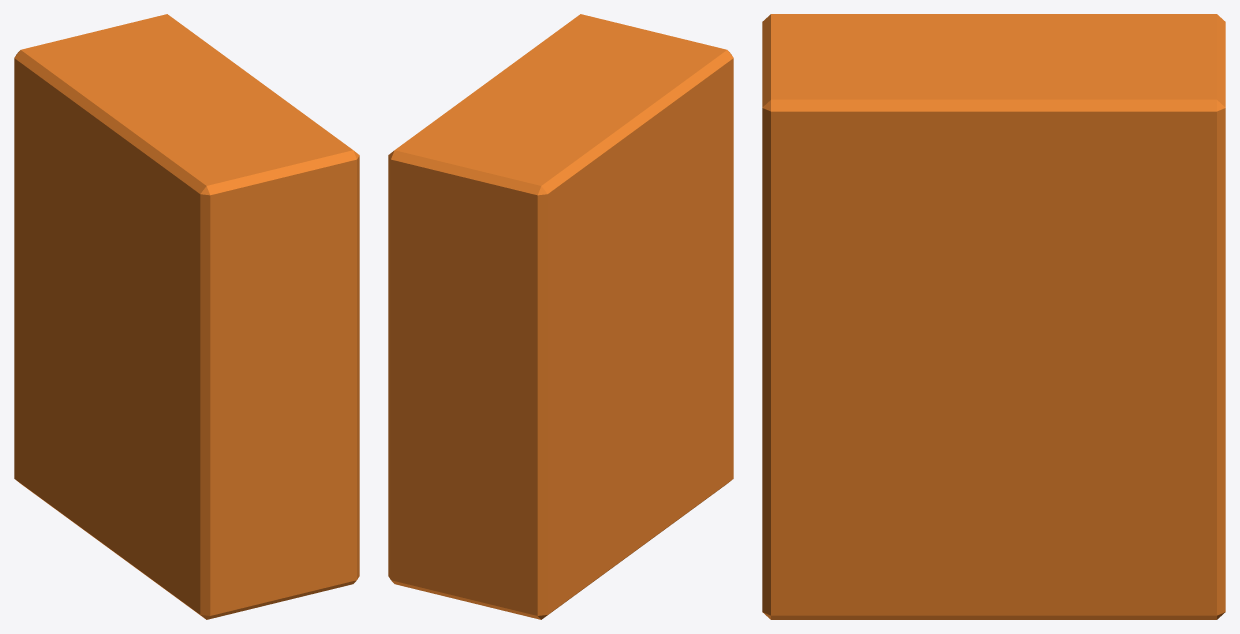
File: brick_stack.glb
3 renders of one model, left to right at view 1: azimuth 30°, elevation 25°; view 2: azimuth 150°, elevation 25°; view 3: azimuth 270°, elevation 25°, orthographic. The views are drawn at different scales.
Parts seen in each view (by area): view 1: brick_stack; view 2: brick_stack; view 3: brick_stack.
Part boxes in pixels (x1,y1,x2,y2): brick_stack: (14,14,359,619); brick_stack: (388,14,733,619); brick_stack: (762,14,1225,619).
Size of the model in its own units: 0.2 by 0.52 by 0.42.
